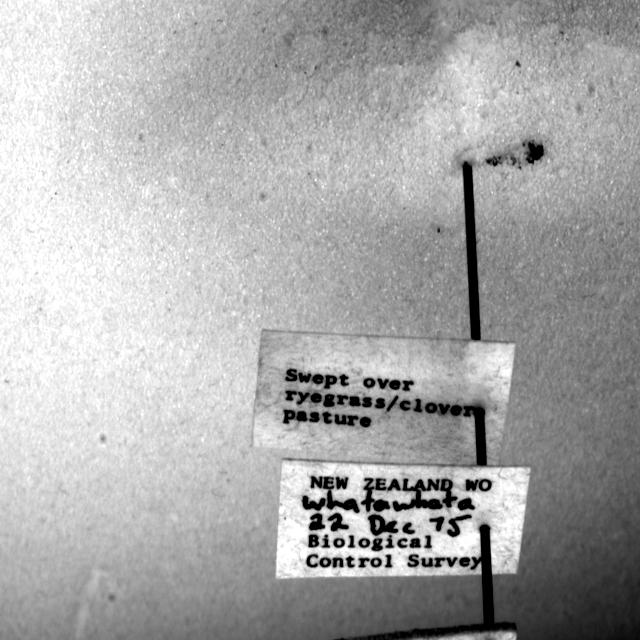mixed_label: (276, 459, 530, 579)
typed_label: (252, 330, 515, 465)
